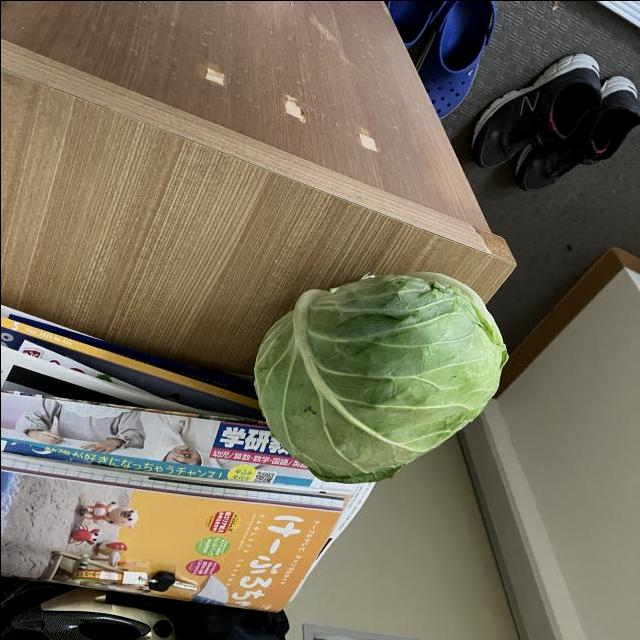cabbage: (250, 266, 512, 486)
